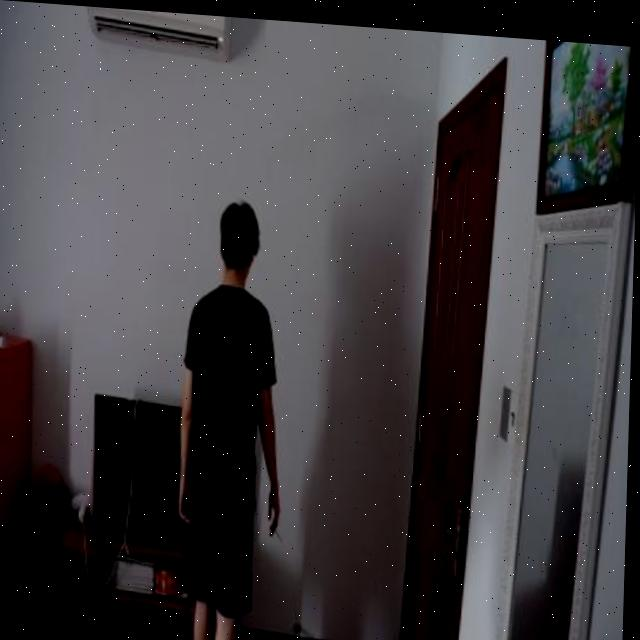cigarette: (278, 525, 286, 539)
